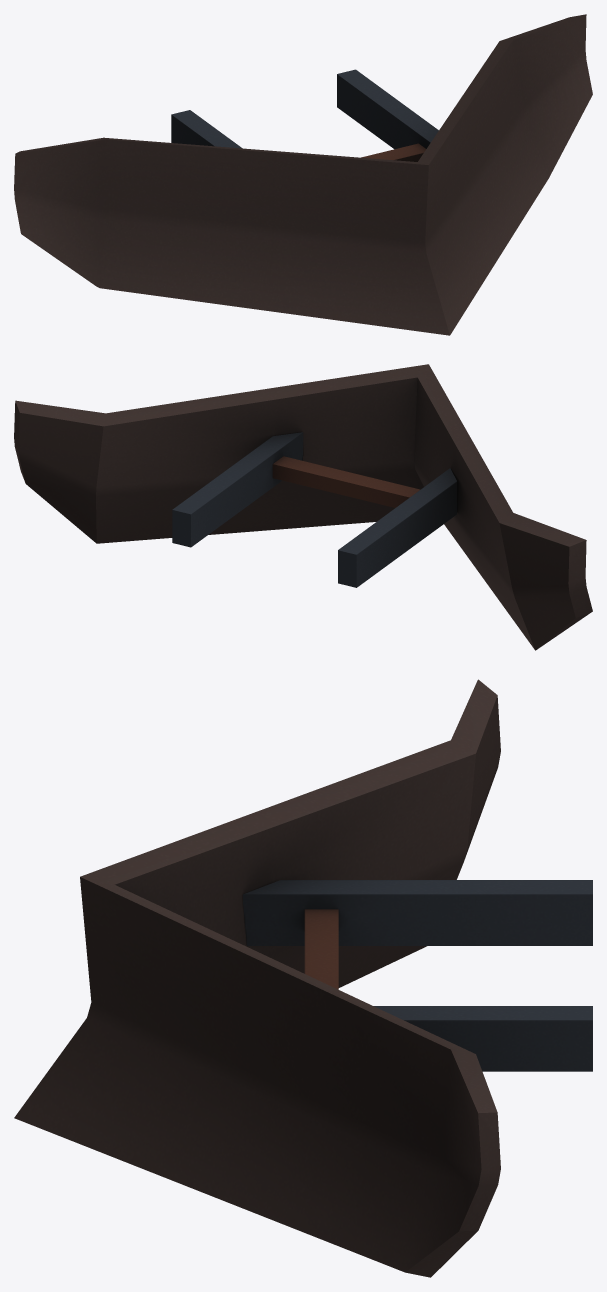
Rendered from Bullbar_v6.FBX.
3 renders of one model, top to bottom at view 1: azimuth 30°, elevation 25°; view 2: azimuth 150°, elevation 25°; view 3: azimuth 270°, elevation 25°, orthographic. The views are drawn at different scales.
Parts seen in each view (by area): view 1: Bullbar_v6; view 2: Bullbar_v6; view 3: Bullbar_v6.
Boxes of the visible parts, x1,y1,x2,y2 form: Bullbar_v6: (14, 14, 592, 335); Bullbar_v6: (14, 364, 592, 650); Bullbar_v6: (14, 679, 592, 1277).
Bounding box in the file's own units: 3.73 × 0.9978 × 2.1.
